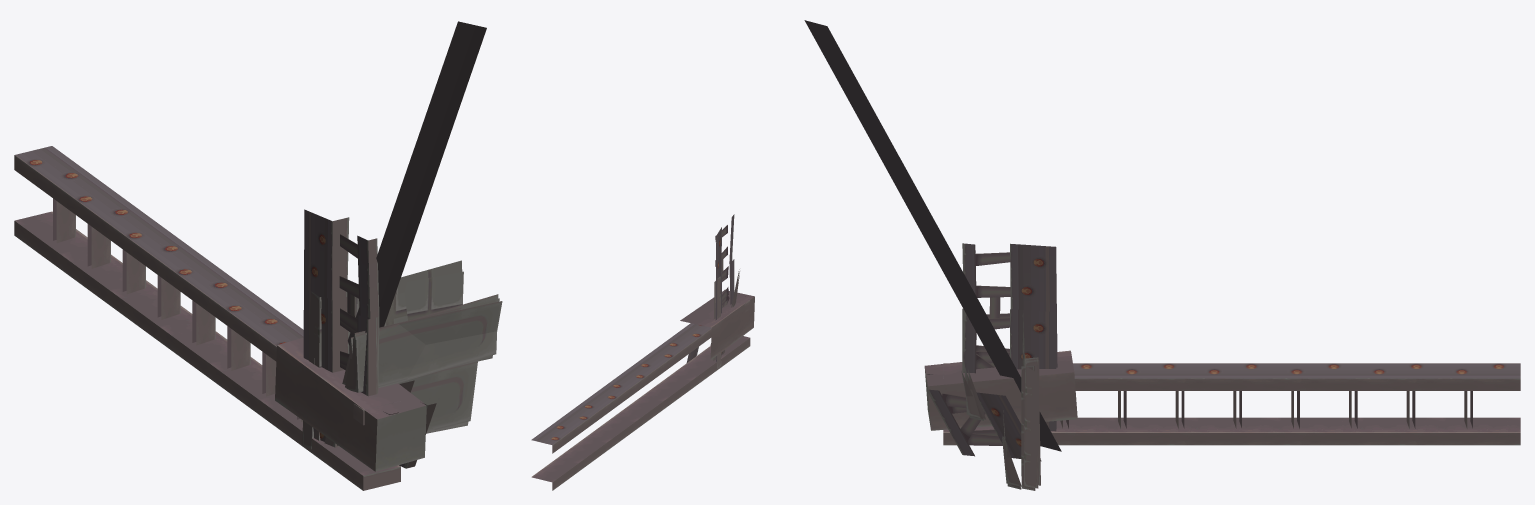
Rendered from fire_escape.glb.
3 renders of one model, left to right at view 1: azimuth 30°, elevation 25°; view 2: azimuth 150°, elevation 25°; view 3: azimuth 270°, elevation 25°, orthographic. The views are drawn at different scales.
Visible parts, largest first — view 1: fire_escape.fire_escape-MeshSets[rail_ladder].Mesh[0], fire_escape.fire_escape-MeshSets[corner_post].Mesh[0], fire_escape.fire_escape-MeshSets[stair_beam_x6].Mesh[0], fire_escape.fire_escape-MeshSets[rail_x3_01].Mesh[0], fire_escape.fire_escape-MeshSets[rail_x2_01].Mesh[0], fire_escape.fire_escape-MeshSets[stairs_01].Mesh[0], fire_escape.fire_escape-MeshSets[stairs_02].Mesh[0], fire_escape.fire_escape-MeshSets[stairs_04].Mesh[0], fire_escape.fire_escape-MeshSets[stairs_03].Mesh[0], fire_escape.fire_escape-MeshSets[platform_x2_01].Mesh[0], fire_escape.fire_escape-MeshSets[platform_x2_02].Mesh[0], fire_escape.fire_escape-MeshSets[platform_x2_04].Mesh[0]; view 2: fire_escape.fire_escape-MeshSets[rail_ladder].Mesh[0], fire_escape.fire_escape-MeshSets[corner_post].Mesh[0], fire_escape.fire_escape-MeshSets[rail_x3_01].Mesh[0], fire_escape.fire_escape-MeshSets[rail_x2_01].Mesh[0]; view 3: fire_escape.fire_escape-MeshSets[rail_ladder].Mesh[0], fire_escape.fire_escape-MeshSets[stair_beam_x6].Mesh[0], fire_escape.fire_escape-MeshSets[rail_x3_01].Mesh[0], fire_escape.fire_escape-MeshSets[corner_post].Mesh[0], fire_escape.fire_escape-MeshSets[rail_L01].Mesh[0], fire_escape.fire_escape-MeshSets[rail_x2_01].Mesh[0], fire_escape.fire_escape-MeshSets[platform_x2_03].Mesh[0].
Boxes of the visible parts, bbox=[...] form: fire_escape.fire_escape-MeshSets[rail_ladder].Mesh[0]: bbox=[14, 146, 400, 490]; fire_escape.fire_escape-MeshSets[corner_post].Mesh[0]: bbox=[275, 337, 426, 471]; fire_escape.fire_escape-MeshSets[stair_beam_x6].Mesh[0]: bbox=[348, 21, 486, 353]; fire_escape.fire_escape-MeshSets[rail_x3_01].Mesh[0]: bbox=[303, 209, 379, 393]; fire_escape.fire_escape-MeshSets[rail_x2_01].Mesh[0]: bbox=[304, 288, 377, 396]; fire_escape.fire_escape-MeshSets[stairs_01].Mesh[0]: bbox=[345, 298, 499, 429]; fire_escape.fire_escape-MeshSets[stairs_02].Mesh[0]: bbox=[346, 311, 443, 392]; fire_escape.fire_escape-MeshSets[stairs_04].Mesh[0]: bbox=[324, 301, 502, 447]; fire_escape.fire_escape-MeshSets[stairs_03].Mesh[0]: bbox=[348, 294, 498, 387]; fire_escape.fire_escape-MeshSets[platform_x2_01].Mesh[0]: bbox=[302, 271, 463, 448]; fire_escape.fire_escape-MeshSets[platform_x2_02].Mesh[0]: bbox=[309, 291, 407, 440]; fire_escape.fire_escape-MeshSets[platform_x2_04].Mesh[0]: bbox=[320, 260, 461, 312]; fire_escape.fire_escape-MeshSets[rail_ladder].Mesh[0]: bbox=[531, 295, 750, 490]; fire_escape.fire_escape-MeshSets[corner_post].Mesh[0]: bbox=[680, 290, 754, 359]; fire_escape.fire_escape-MeshSets[rail_x3_01].Mesh[0]: bbox=[715, 214, 734, 361]; fire_escape.fire_escape-MeshSets[rail_x2_01].Mesh[0]: bbox=[716, 259, 734, 361]; fire_escape.fire_escape-MeshSets[rail_ladder].Mesh[0]: bbox=[943, 363, 1520, 445]; fire_escape.fire_escape-MeshSets[stair_beam_x6].Mesh[0]: bbox=[804, 20, 1061, 451]; fire_escape.fire_escape-MeshSets[rail_x3_01].Mesh[0]: bbox=[962, 243, 1057, 428]; fire_escape.fire_escape-MeshSets[corner_post].Mesh[0]: bbox=[924, 350, 1077, 430]; fire_escape.fire_escape-MeshSets[rail_L01].Mesh[0]: bbox=[926, 389, 1041, 461]; fire_escape.fire_escape-MeshSets[rail_x2_01].Mesh[0]: bbox=[962, 308, 1056, 372]; fire_escape.fire_escape-MeshSets[platform_x2_03].Mesh[0]: bbox=[1024, 360, 1039, 488].
Size of the model in its own units: 2.16 by 6.55 by 9.93.
Materials: 1 (1 with a texture image).
